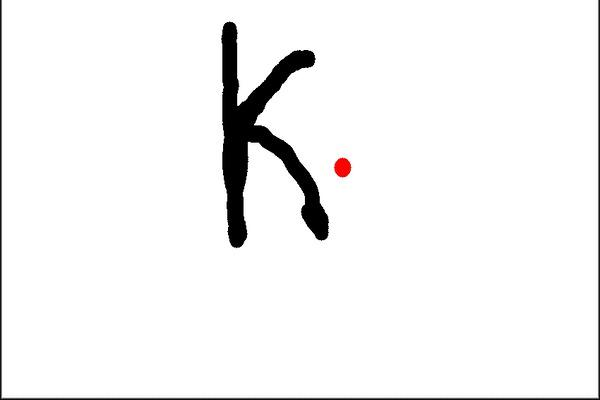K: (209, 14, 334, 254)
